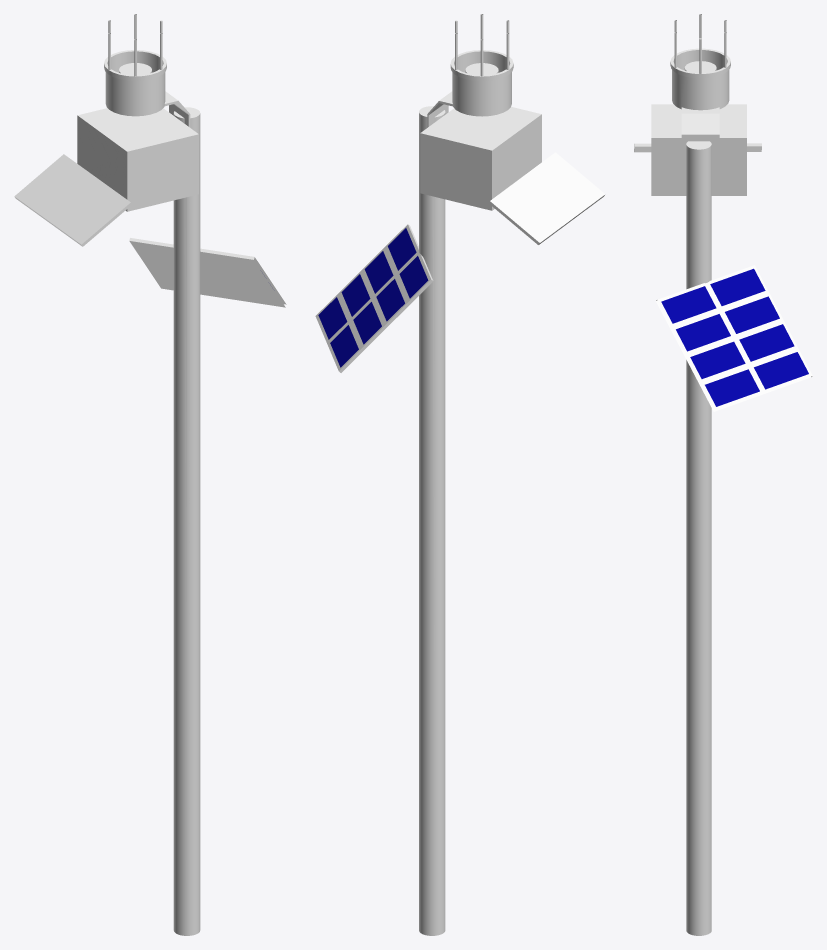
The model's file is RainSensor.glb.
The picture shows the model from 3 angles, left to right: view 1: azimuth 30°, elevation 25°; view 2: azimuth 150°, elevation 25°; view 3: azimuth 270°, elevation 25°; orthographic projection. The views are drawn at different scales.
Visible parts, largest first — view 1: 降雨センサー; view 2: 降雨センサー; view 3: 降雨センサー.
Boxes of the visible parts, x1,y1,x2,y2 form: 降雨センサー: (14, 14, 286, 935); 降雨センサー: (315, 14, 605, 935); 降雨センサー: (634, 14, 812, 935).
Bounding box in the file's own units: 1.73 × 6.09 × 1.12.
